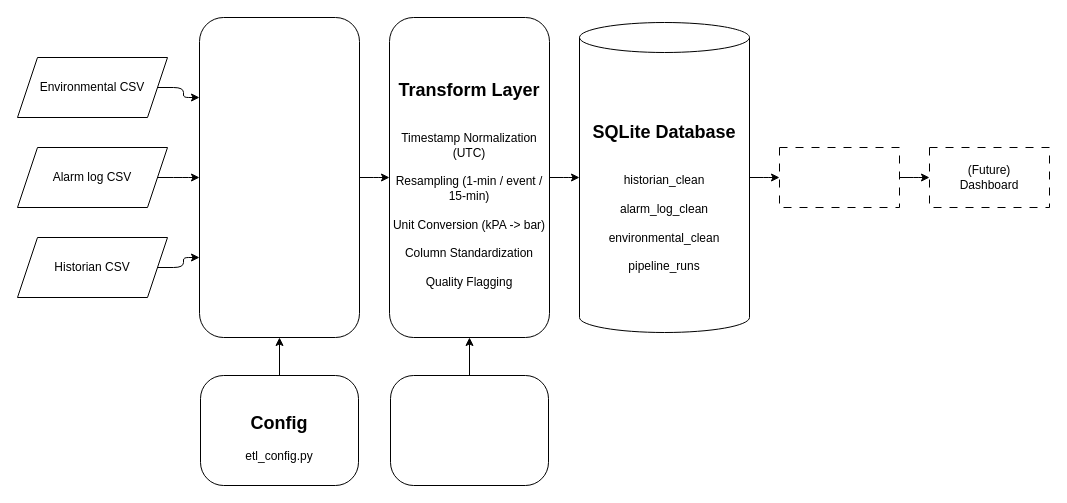
Some shapes in this 1067 by 503 pixel diagram are drawn without their labels. The box of each missing label's shape, as (x1, y1, x2, y2) in pixels:
(Future) Analytics Module: (778, 146, 900, 208)
Data Quality Module quality_report.json: (390, 374, 548, 486)
Extract Layer extract_historian() extract_alarm_log() extract_environmental(): (198, 16, 360, 338)
